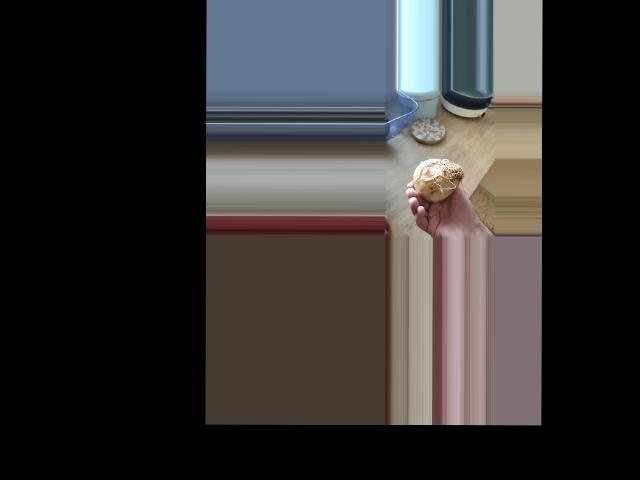onion: (411, 153, 460, 202)
